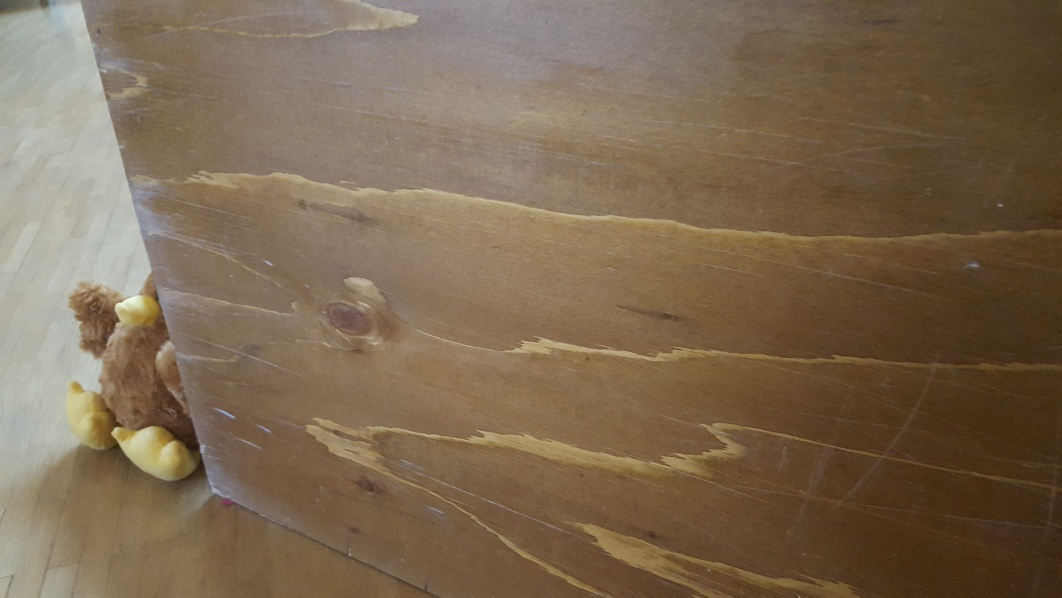chicken: (67, 269, 206, 489)
